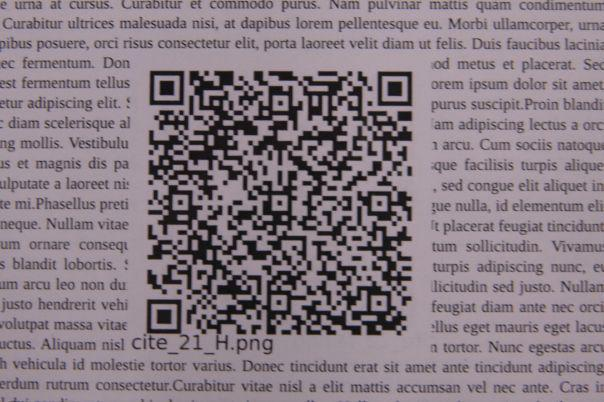Finder pattern: (143, 294, 187, 337), (146, 66, 190, 109), (375, 66, 417, 108)
